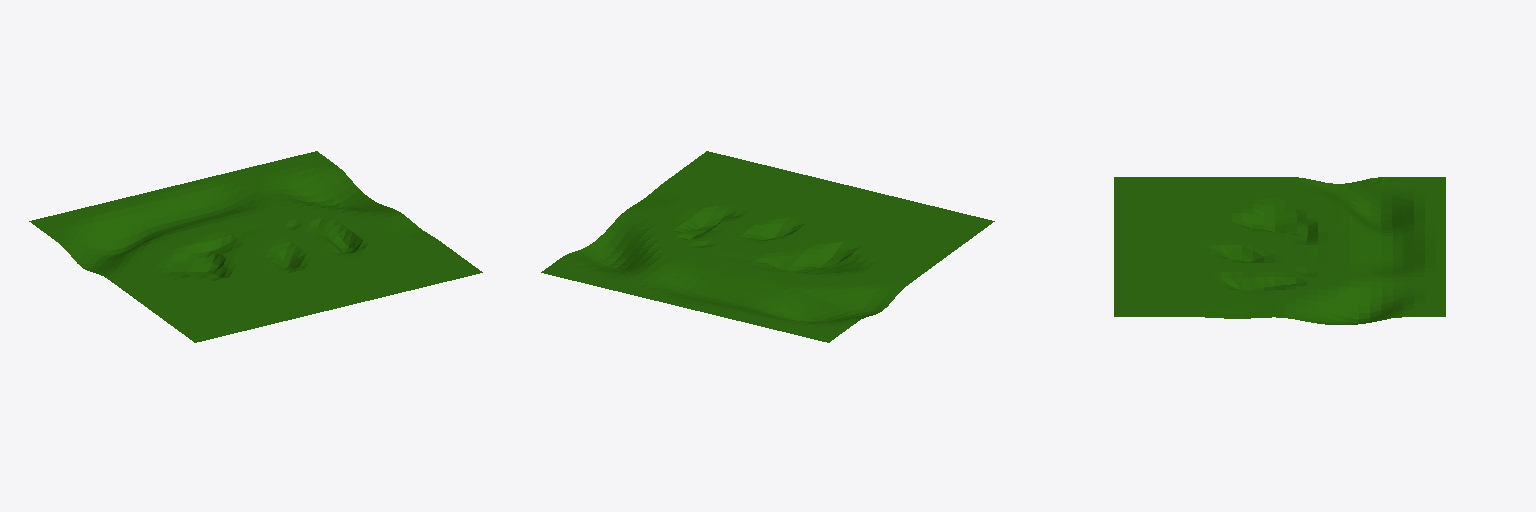
Rendered from terrain.obj.
The picture shows the model from 3 angles: view 1: azimuth 30°, elevation 25°; view 2: azimuth 150°, elevation 25°; view 3: azimuth 270°, elevation 25°; orthographic projection.
Parts seen in each view (by area): view 1: Plane.001_Plane; view 2: Plane.001_Plane; view 3: Plane.001_Plane.
Boxes of the visible parts, <box> form: Plane.001_Plane: <box>29,151,482,342</box>; Plane.001_Plane: <box>541,151,994,342</box>; Plane.001_Plane: <box>1114,177,1445,324</box>.
Size of the model in its own units: 346 by 20.55 by 345.